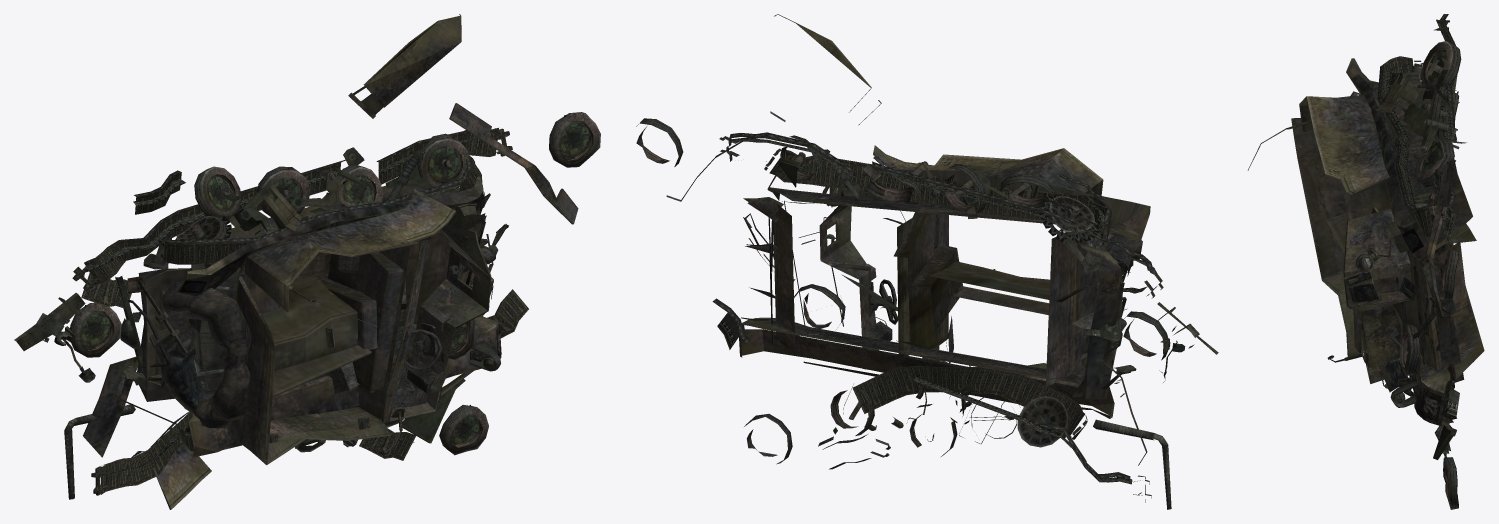
File: vehicle_uni_carrier_ye_destroyed.glb
3 renders of one model, left to right at view 1: azimuth 30°, elevation 25°; view 2: azimuth 150°, elevation 25°; view 3: azimuth 270°, elevation 25°, orthographic. The views are drawn at different scales.
Size of the model in its own units: 260 by 188 by 93.84.
6 materials, 6 textured.
